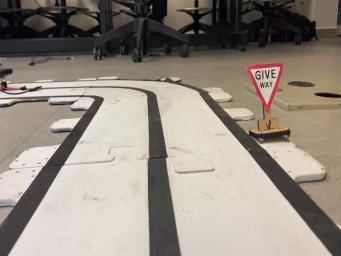give_way: (246, 63, 290, 143), (246, 63, 290, 143), (246, 63, 290, 143), (246, 63, 290, 143), (246, 63, 290, 143), (246, 63, 290, 143)
street: (0, 78, 341, 256), (0, 78, 341, 256), (0, 78, 341, 256), (0, 78, 341, 256), (0, 78, 341, 256), (0, 78, 341, 256)
